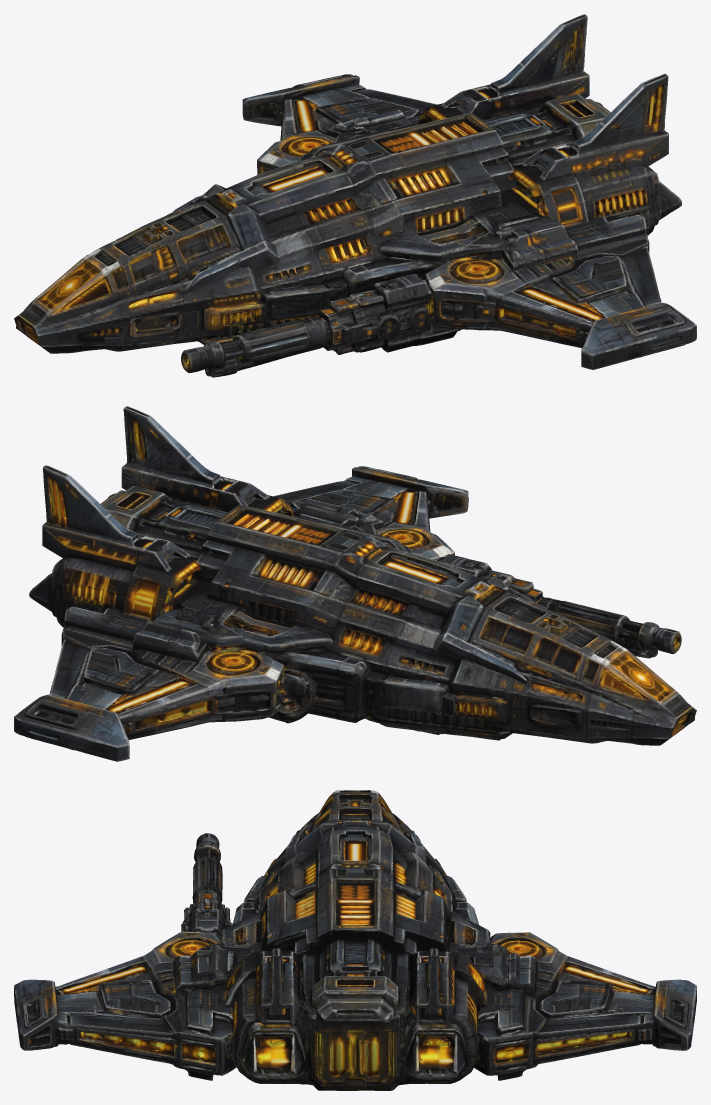
File: tracker.glb
3 renders of one model, top to bottom at view 1: azimuth 30°, elevation 25°; view 2: azimuth 150°, elevation 25°; view 3: azimuth 270°, elevation 25°, orthographic. The views are drawn at different scales.
Visible parts, largest first — view 1: mesh_0; view 2: mesh_0; view 3: mesh_0.
Boxes of the visible parts, bbox=[...] form: mesh_0: bbox=[14, 14, 696, 377]; mesh_0: bbox=[14, 406, 696, 761]; mesh_0: bbox=[14, 790, 696, 1090].
Size of the model in its own units: 1.89 by 0.5406 by 1.9.
1 material, 1 textured.
